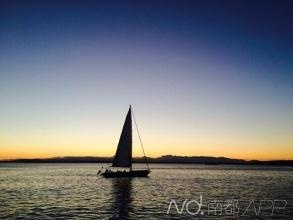fanchuan: (98, 101, 157, 182)
